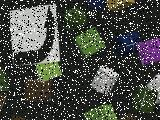Left: (10, 4, 60, 66)
